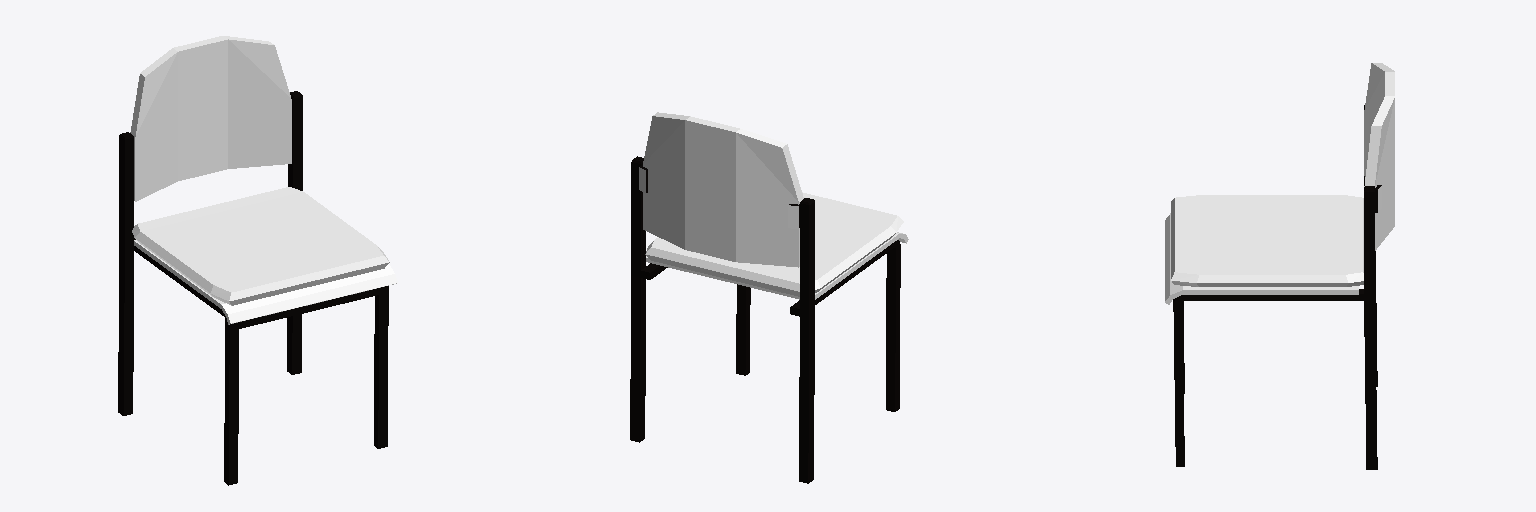
File: chair4.obj
3 views of the same model, side by side, from view 1: azimuth 30°, elevation 25°; view 2: azimuth 150°, elevation 25°; view 3: azimuth 270°, elevation 25° (orthographic).
Visible parts, largest first — view 1: Object.1; view 2: Object.1; view 3: Object.1.
Part boxes in pixels (x1,y1,x2,y2): Object.1: (118,36,397,485); Object.1: (630,112,908,483); Object.1: (1165,63,1394,469).
Bounding box in the file's own units: 8 × 14.76 × 8.98.